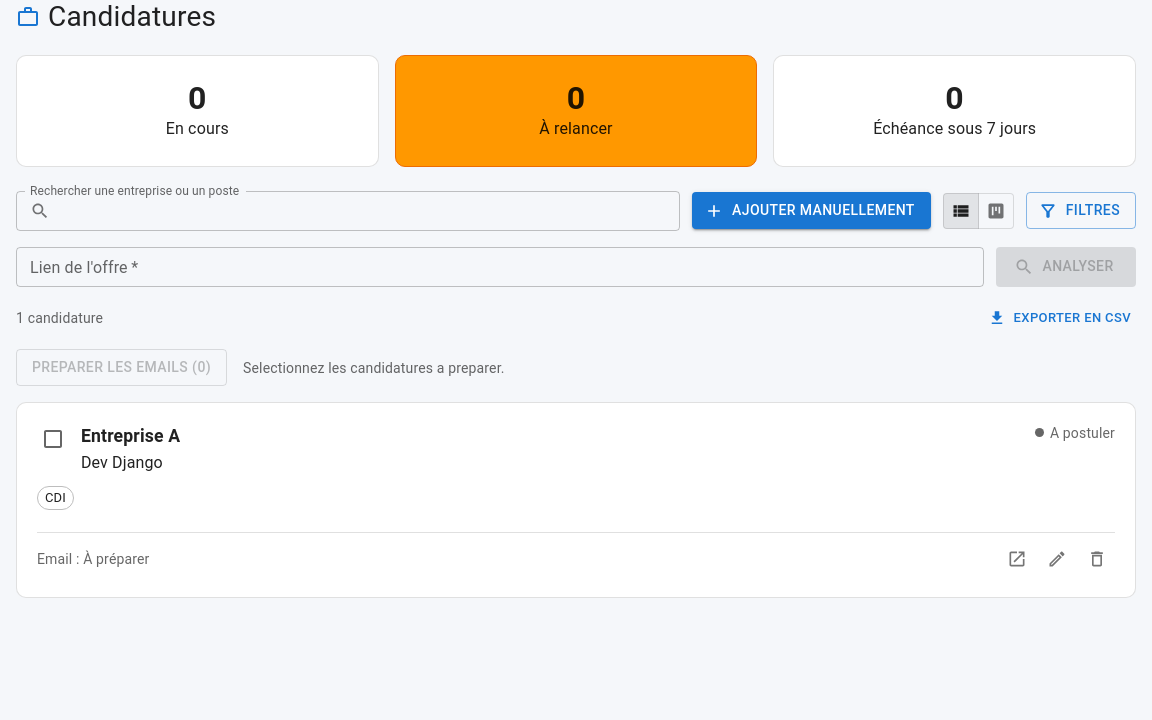
Test: signale une erreur 500 de preparation en masse avec une piste exploitable
Expected: the heading "Dev Django" is shown, [81,450,163,476]
What coordinates should you click on to do the following:
click the checkbox named "Selectionner Dev Django"
I would click on:
 (53, 439)
Its box is [41,427,65,451].
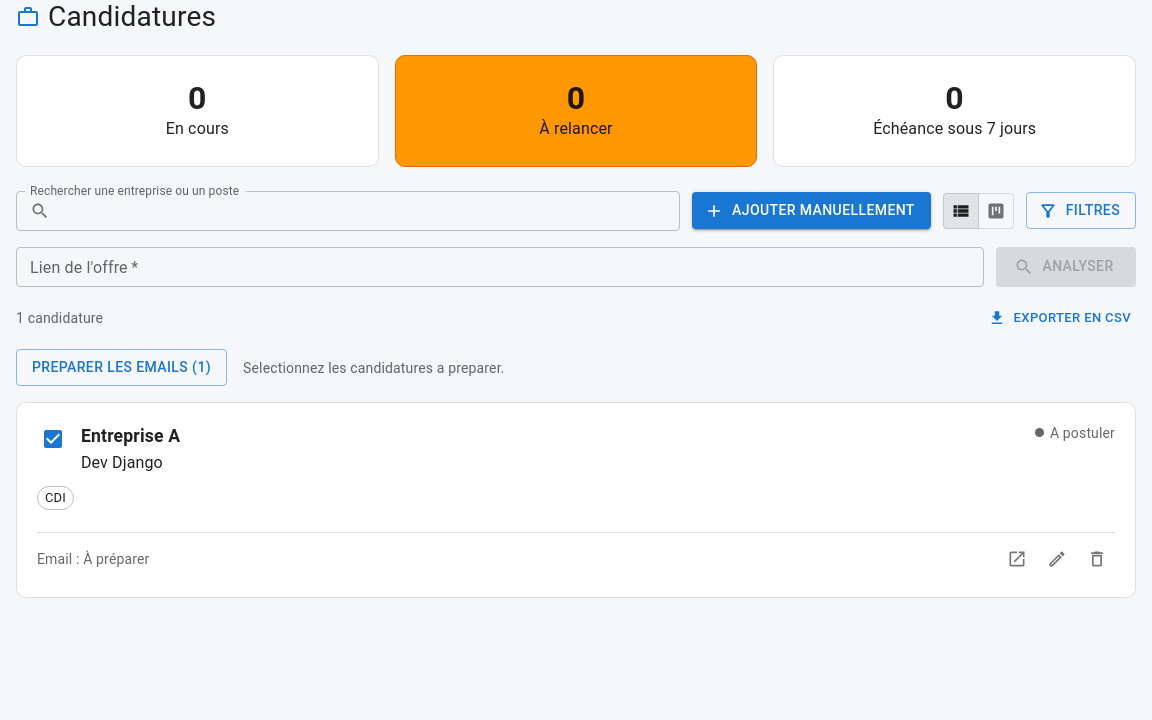
What coordinates should you click on to do the following:
click the button "Preparer les emails (1)"
I would click on:
 (122, 368)
Its box is [16,349,227,386].
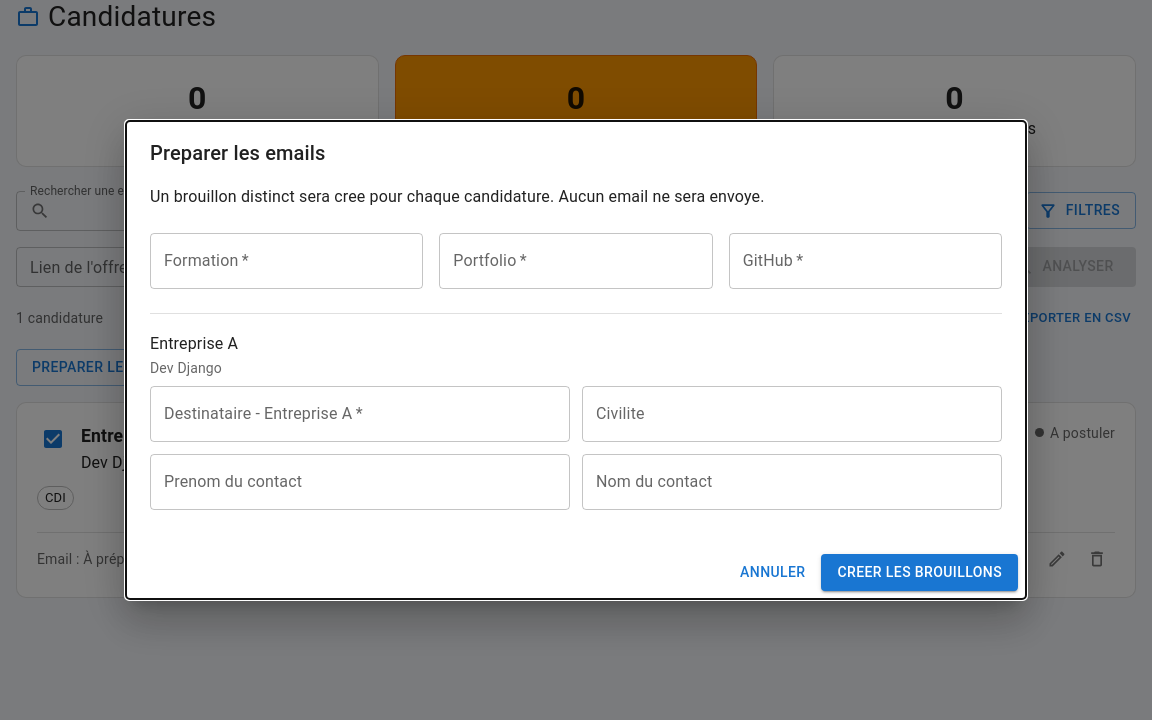
What coordinates should you click on to do the following:
click the button "Creer les brouillons"
I would click on:
 (920, 573)
Its box is [822,554,1018,591].
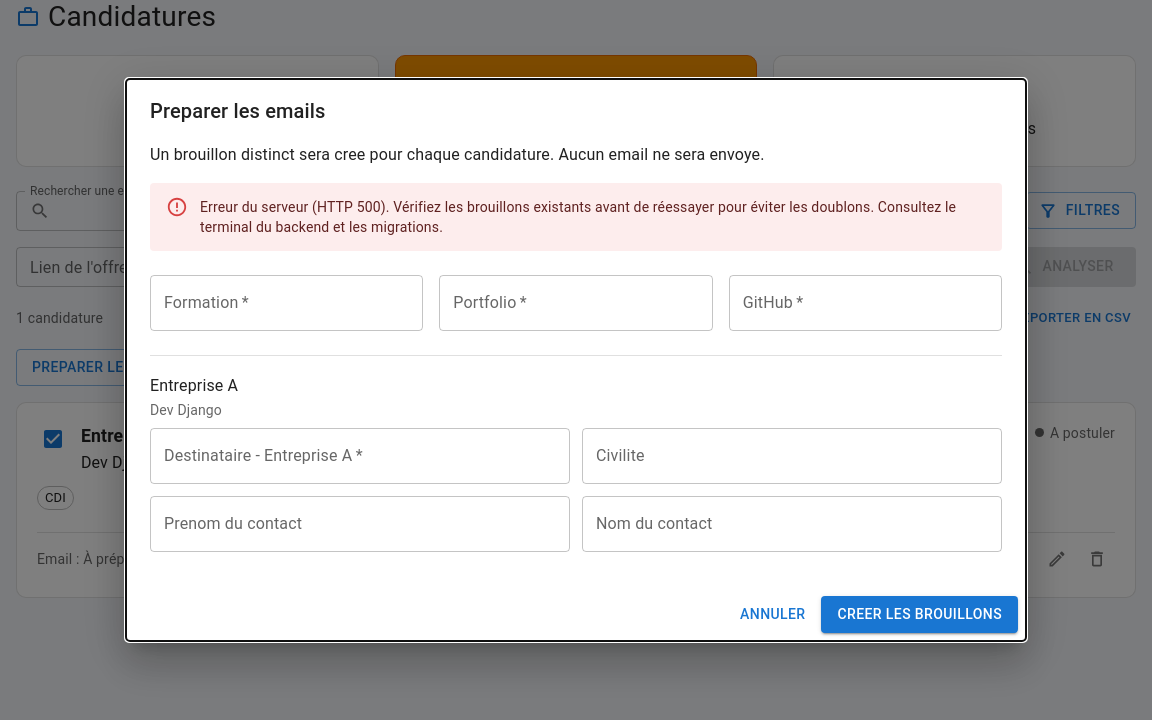
Result: the message shows "Erreur du serveur (HTTP 500)" at [200,199,956,235]
Result: the message shows "avant de réessayer pour éviter les doublons" at [200,199,956,235]
Result: the message shows "migrations" at [200,199,956,235]
